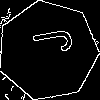J: (23, 25, 74, 59)
